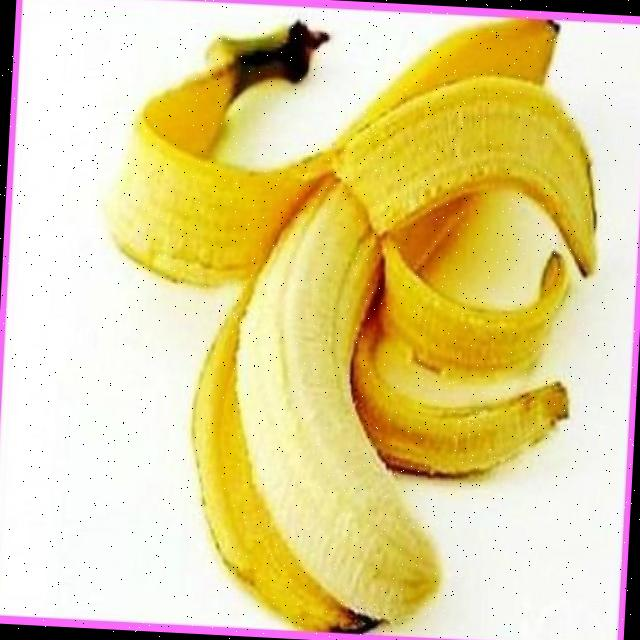banana-peel: (84, 0, 609, 640), (178, 166, 462, 636)
